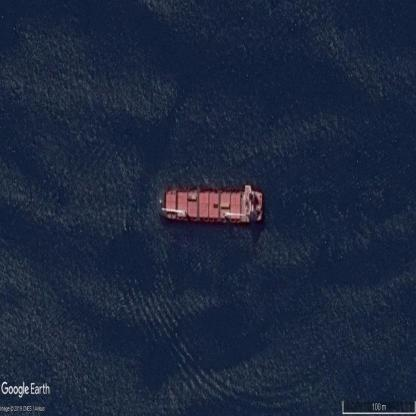ship: (157, 186, 264, 224)
